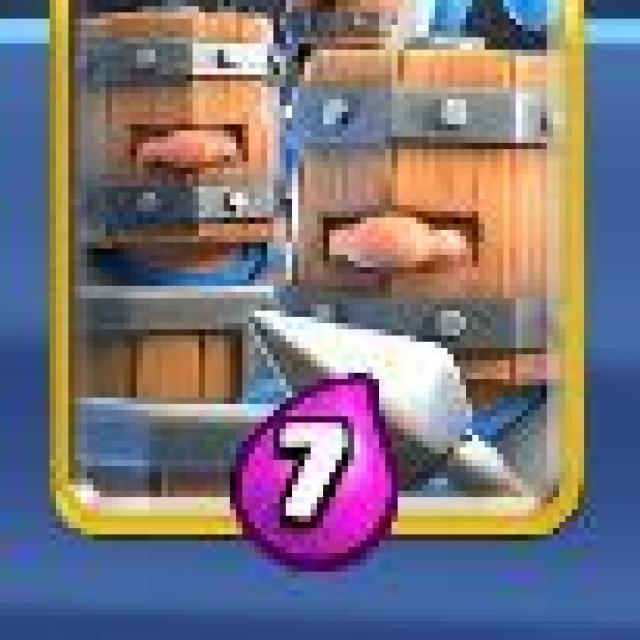Royal_Recruits: (47, 0, 595, 537)
